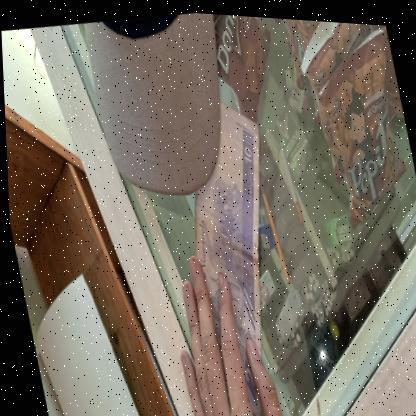ten-back-vef: (133, 85, 316, 416)
